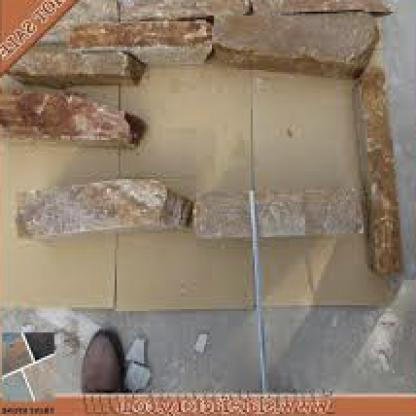Metamorphic_Quartize: (17, 173, 192, 249), (214, 2, 381, 72), (195, 179, 366, 245), (2, 84, 148, 150), (364, 78, 412, 274), (48, 37, 150, 78)
